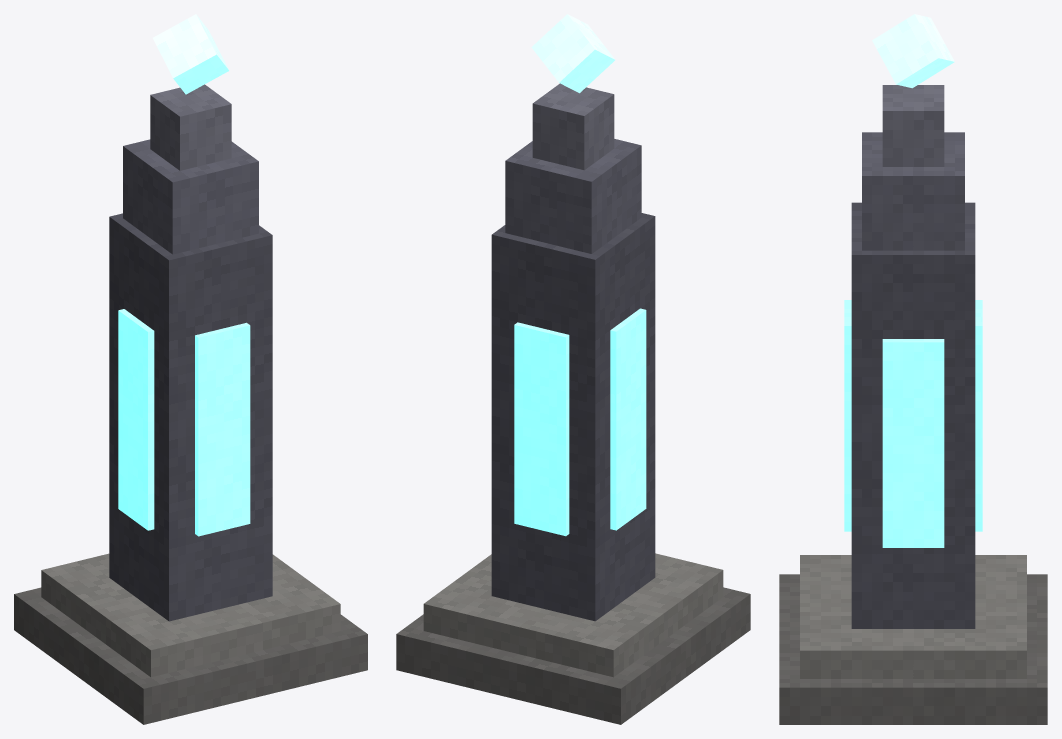
Rendered from obelisk.glb.
3 renders of one model, left to right at view 1: azimuth 30°, elevation 25°; view 2: azimuth 150°, elevation 25°; view 3: azimuth 270°, elevation 25°, orthographic. The views are drawn at different scales.
Parts seen in each view (by area): view 1: Obelisk; view 2: Obelisk; view 3: Obelisk.
Boxes of the visible parts, x1,y1,x2,y2 form: Obelisk: (14,14,367,724); Obelisk: (396,14,750,724); Obelisk: (779,14,1047,724).
Size of the model in its own units: 1.3 by 3.51 by 1.3.
7 materials, 7 textured.
